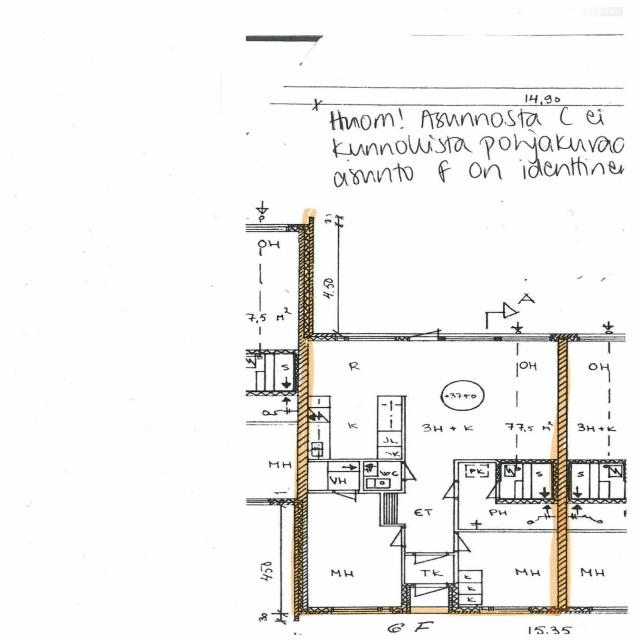door: (415, 584, 447, 610), (415, 553, 447, 578), (409, 314, 438, 341), (454, 533, 484, 551), (375, 528, 405, 546), (401, 463, 429, 479), (432, 481, 458, 498), (334, 490, 356, 509), (474, 482, 499, 498)
